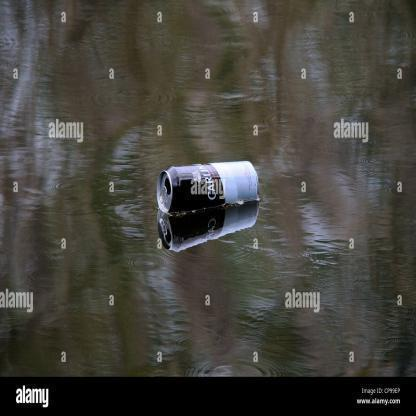can: (158, 160, 259, 209)
